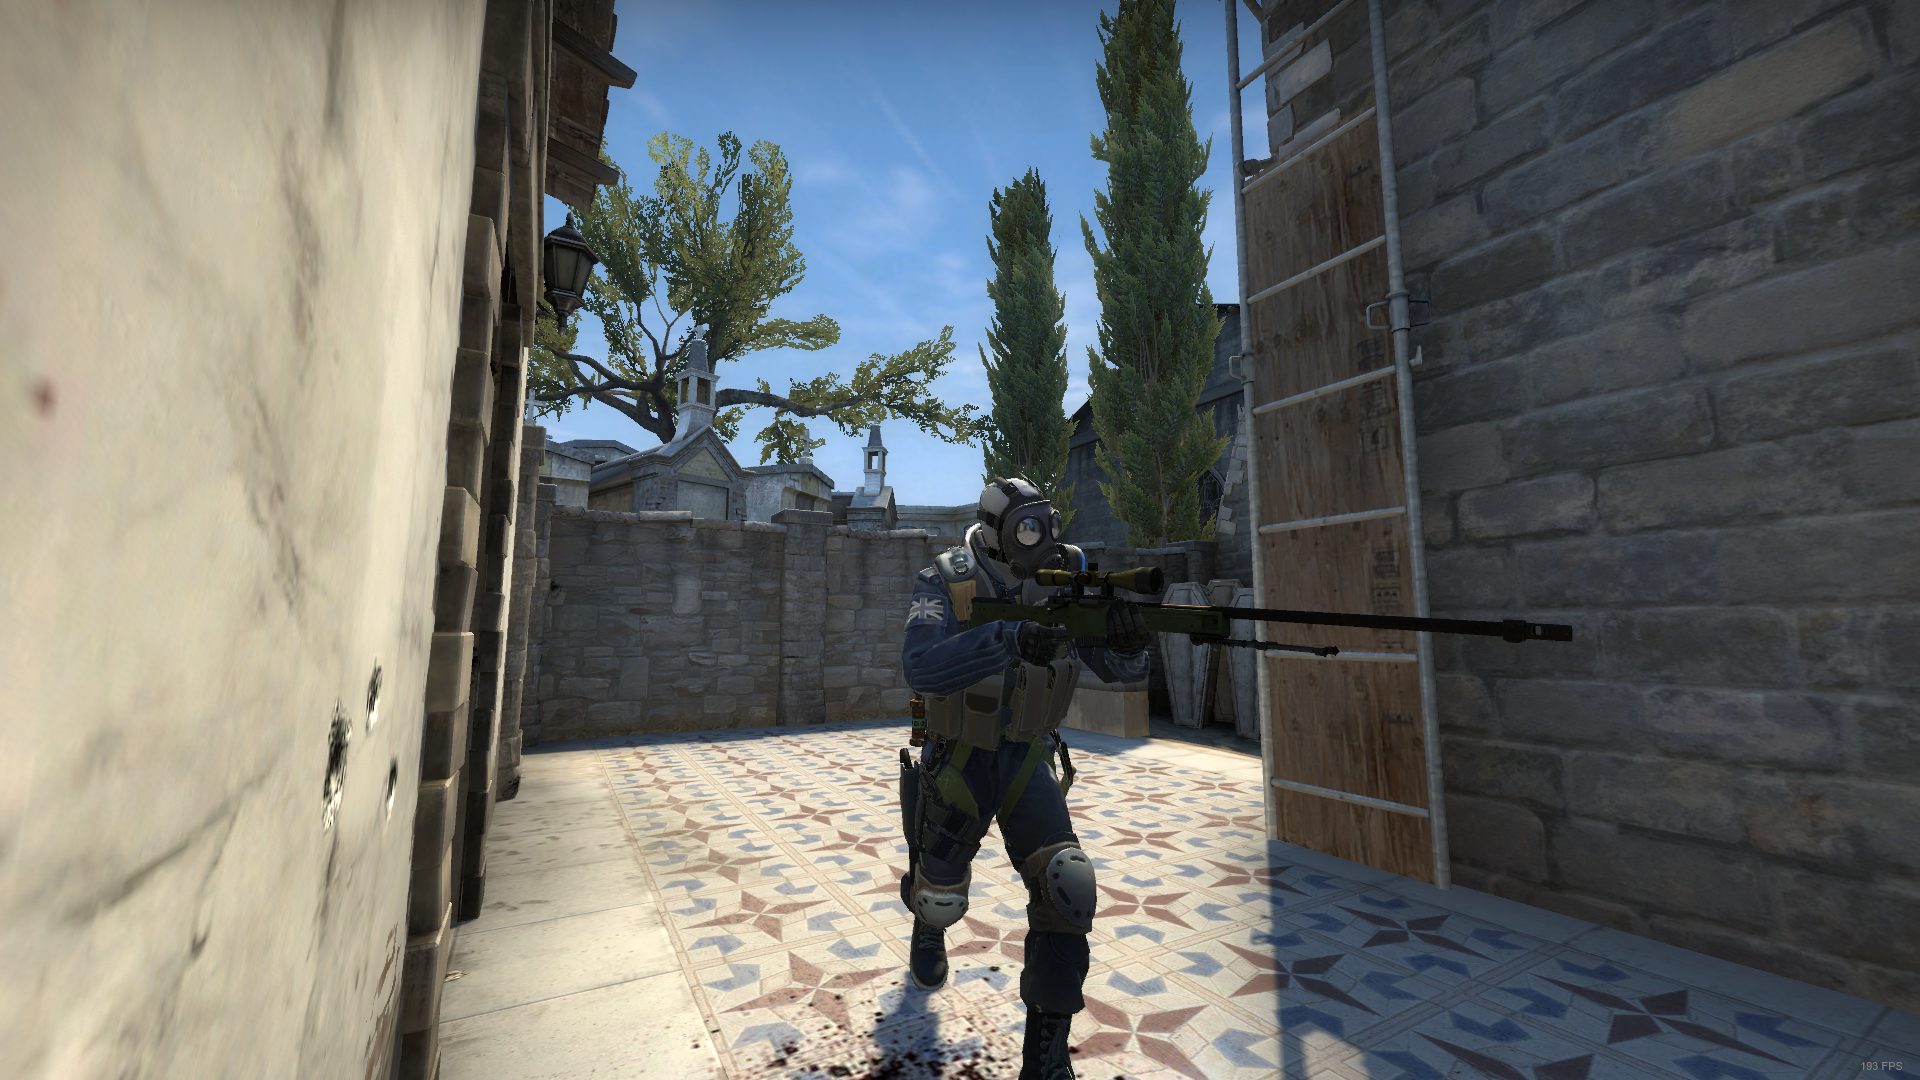ct: (868, 476, 1180, 1080)
